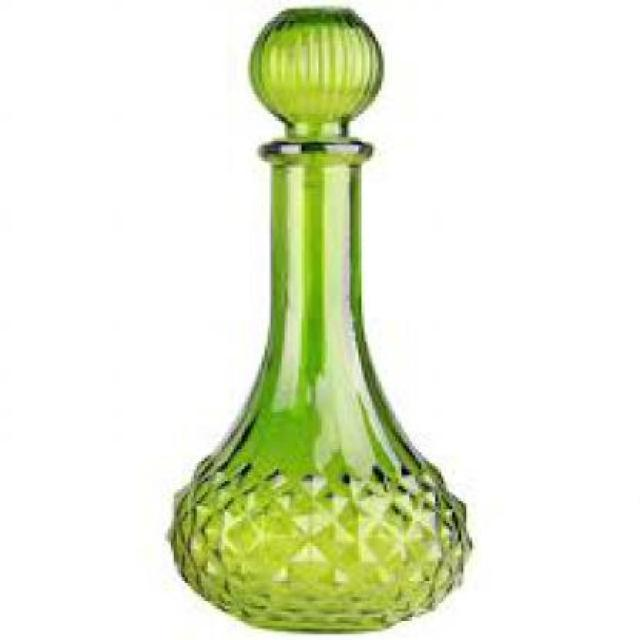kaca: (165, 6, 472, 632)
